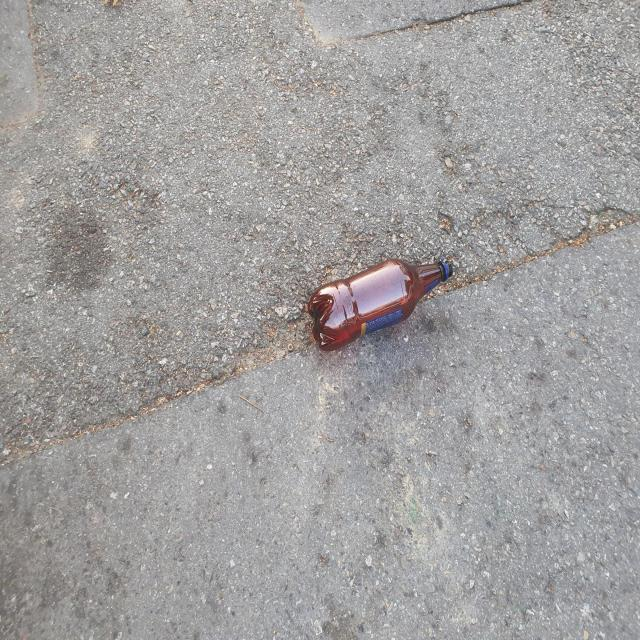plastic: (308, 259, 453, 350)
